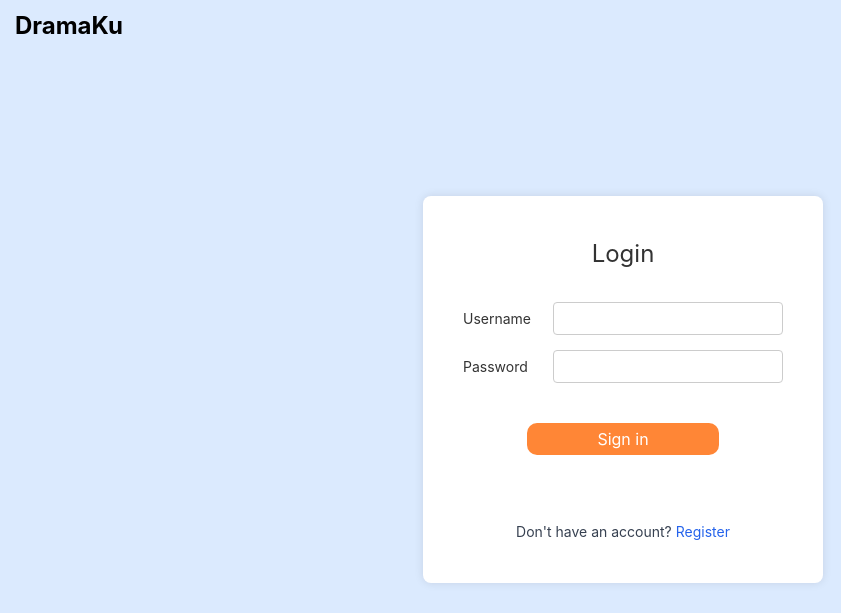
Test case: Login Component › displays error message on failed login
This screenshot has width=841, height=613.
In the field labelled "Username": coordinates (668, 318) top-left (553, 302), bottom-right (783, 334), type "invaliduser"
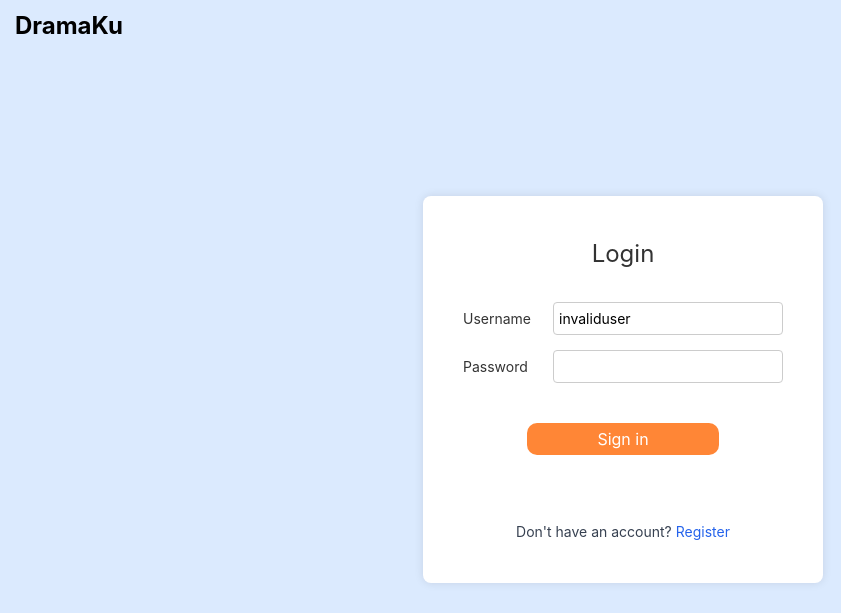
In the password field labelled "Password": coordinates (668, 366) top-left (553, 350), bottom-right (783, 382), type "invalidpass"
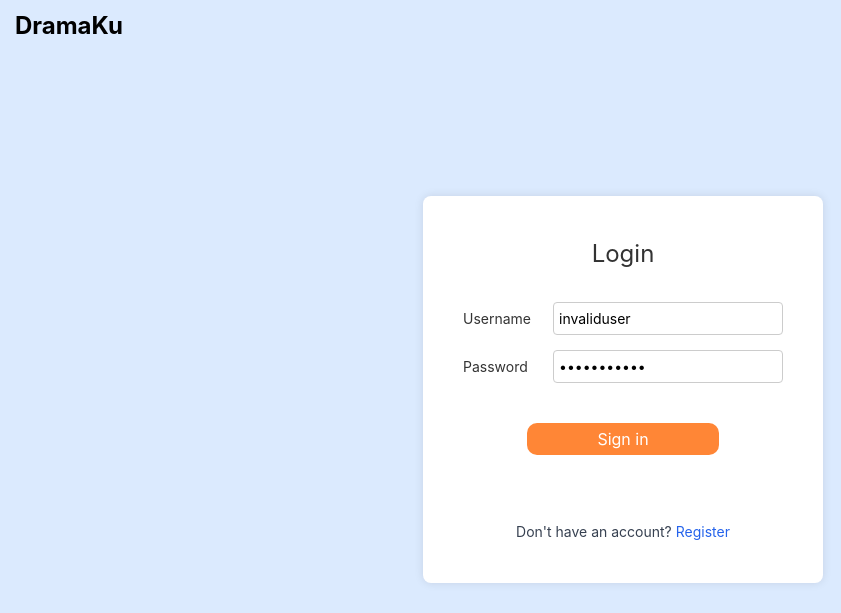
Click the button "Sign in": coordinates (623, 438) top-left (527, 422), bottom-right (719, 454)
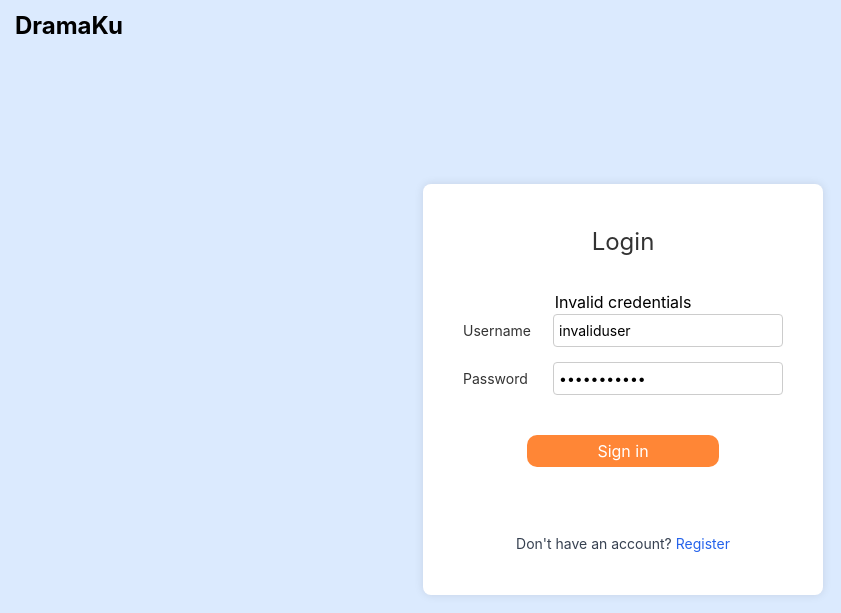
Expected: the text "Invalid credentials" is shown, top-left (555, 292), bottom-right (691, 312)
